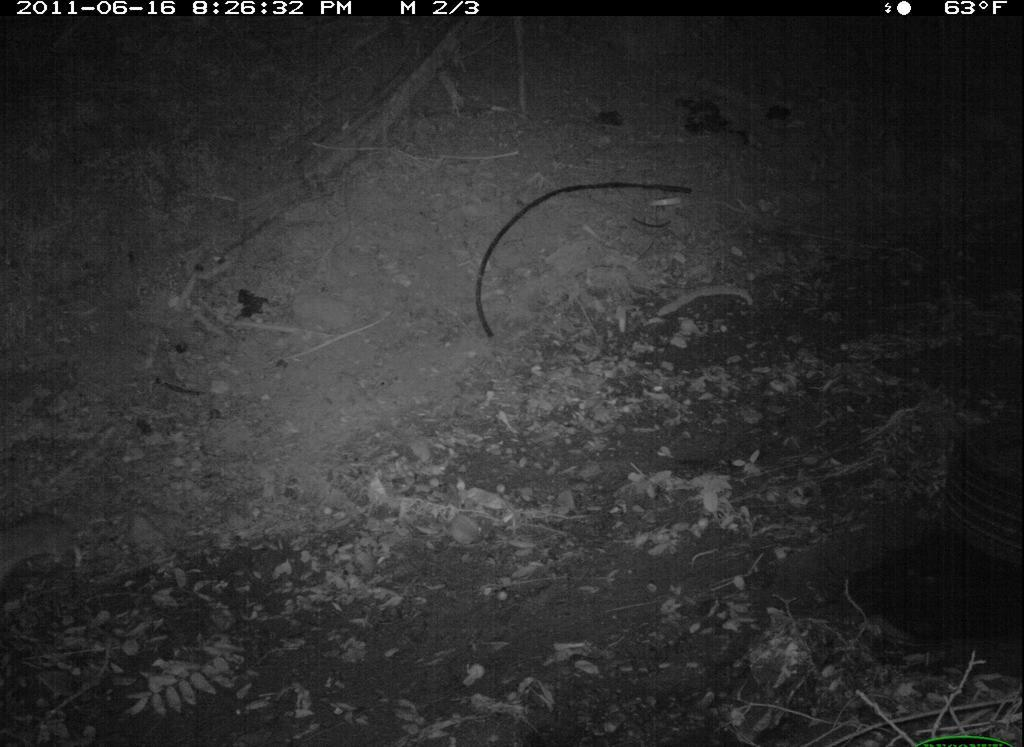opossum: (1, 512, 95, 599)
